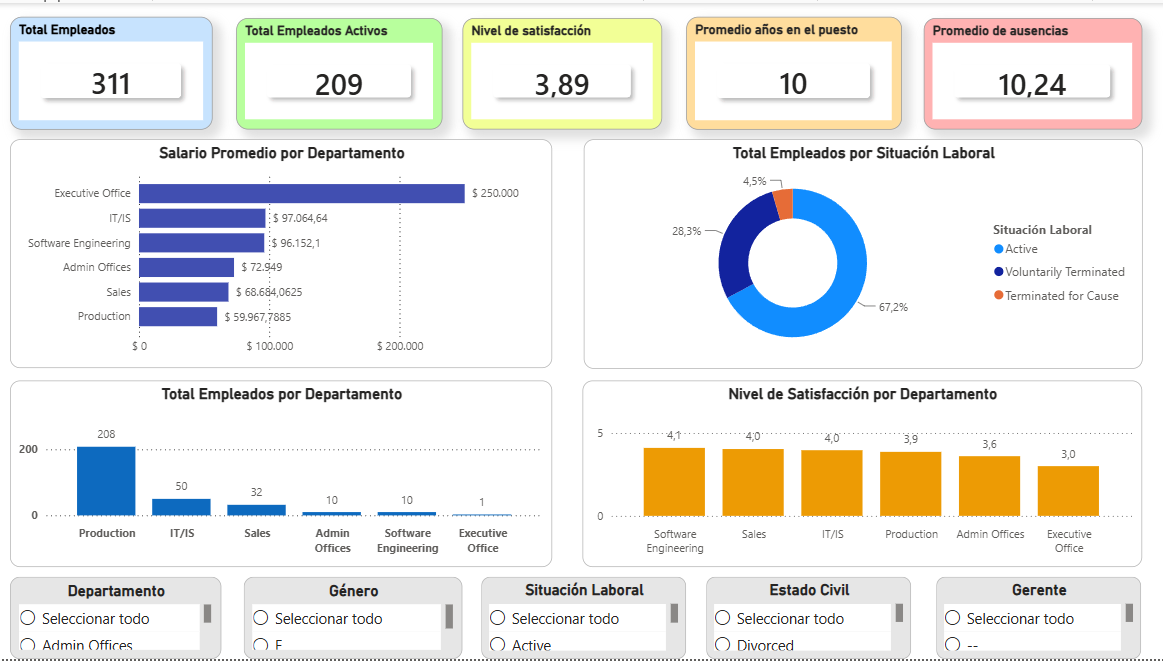

The dashboard page shown, as its layout file describes it:
{"tool":"powerbi","page":{"name":"Página 1","canvas":[1280,720],"ordinal":0},"visuals":[{"type":"cardVisual","title":"Total Empleados","fields":{"Data":["FactEmployee.Total Empleados"]},"box":[10.3,14.7,222.2,123.6],"z":0},{"type":"cardVisual","title":"Total Empleados Activos","fields":{"Data":["FactEmployee.Total Empleados Activos"]},"box":[259,16.2,226.6,122.1],"z":1000},{"type":"cardVisual","title":"Nivel de satisfacción","fields":{"Data":["FactEmployee.Nivel de Satisfacción"]},"box":[507.7,16.2,219.3,122.1],"z":2000},{"type":"cardVisual","title":"Promedio años en el puesto","fields":{"Data":["FactEmployee.Promedio Antigüedad"]},"box":[753.5,14.7,236.9,123.6],"z":3000},{"type":"cardVisual","title":"Promedio de ausencias","fields":{"Data":["FactEmployee.Tasa de Ausentismo"]},"box":[1013.9,16.2,239.9,122.1],"z":4000},{"type":"columnChart","title":"Total Empleados por Departamento","fields":{"Y":["FactEmployee.Total Empleados"],"Category":["DimDepartment.Department"]},"box":[11,414.4,595.5,204.5],"z":5000},{"type":"donutChart","title":"Total Empleados por Situación Laboral","fields":{"Category":["DimEmploymentStatus.EmploymentStatus"],"Y":["FactEmployee.Total Empleados"]},"box":[640.1,150.1,613.7,251.6],"z":6000},{"type":"columnChart","title":"Nivel de Satisfacción por Departamento","fields":{"Category":["DimDepartment.Department"],"Y":["FactEmployee.Nivel de Satisfacción"]},"box":[640,415,614,205],"z":8000},{"type":"listSlicer","title":"Departamento","fields":{"Values":["DimDepartment.Department"]},"box":[11,629.8,231.9,90.6],"z":8001},{"type":"listSlicer","title":"Género","fields":{"Values":["DimGender.Sex"]},"box":[267.6,629.8,240.1,90.6],"z":8002},{"type":"listSlicer","title":"Situación Laboral","fields":{"Values":["DimEmploymentStatus.EmploymentStatus"]},"box":[528.3,629.8,225,90.6],"z":8003},{"type":"listSlicer","title":"Estado Civil","fields":{"Values":["DimMaritalStatus.MaritalDesc"]},"box":[775.3,629.8,225,90.6],"z":8004},{"type":"listSlicer","title":"Gerente","fields":{"Values":["DimManager.ManagerName"]},"box":[1027.8,629.8,225,90.6],"z":8005},{"type":"barChart","title":"Salario Promedio por Departamento","fields":{"Category":["DimDepartment.Department"],"Y":["DimDepartment.Salario Promedio"]},"box":[11,149.6,595.5,251.1],"z":8006}]}

Visuals, with their boxes in screenshot pixels (x1, y1, x2, y2), scaled from the page's 1280x720 canvas onto the 1163x667 screenshot:
"Total Empleados" cardVisual: box=[9, 14, 211, 128]
"Total Empleados Activos" cardVisual: box=[235, 15, 441, 128]
"Nivel de satisfacción" cardVisual: box=[461, 15, 661, 128]
"Promedio años en el puesto" cardVisual: box=[685, 14, 900, 128]
"Promedio de ausencias" cardVisual: box=[921, 15, 1139, 128]
"Total Empleados por Departamento" columnChart: box=[10, 384, 551, 573]
"Total Empleados por Situación Laboral" donutChart: box=[582, 139, 1139, 372]
"Nivel de Satisfacción por Departamento" columnChart: box=[582, 384, 1139, 574]
"Departamento" listSlicer: box=[10, 583, 221, 666]
"Género" listSlicer: box=[243, 583, 461, 666]
"Situación Laboral" listSlicer: box=[480, 583, 684, 666]
"Estado Civil" listSlicer: box=[704, 583, 909, 666]
"Gerente" listSlicer: box=[934, 583, 1138, 666]
"Salario Promedio por Departamento" barChart: box=[10, 139, 551, 371]
